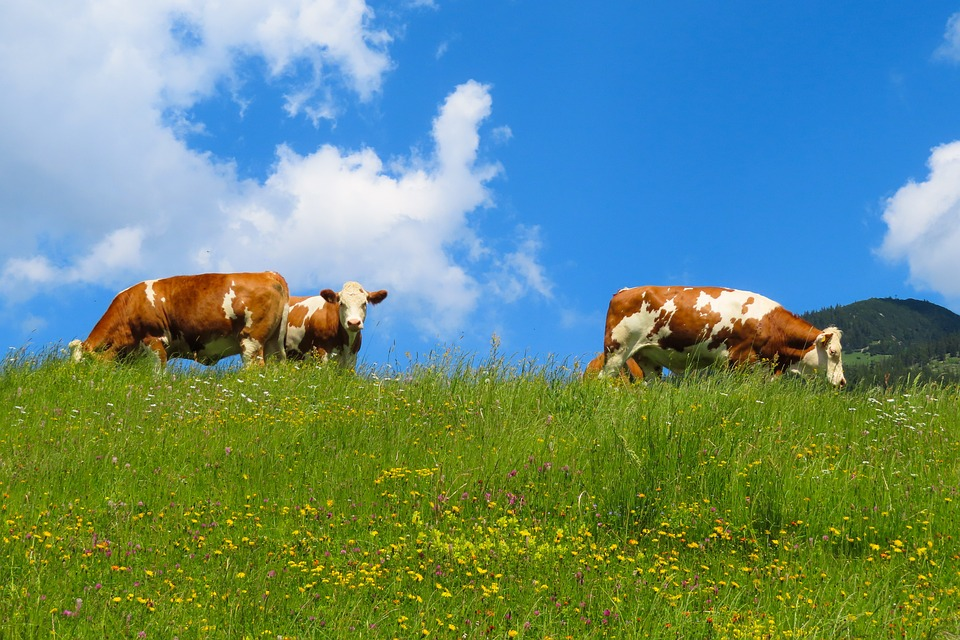cow: (604, 286, 846, 397), (68, 271, 288, 373), (288, 281, 388, 374), (583, 351, 642, 385)
